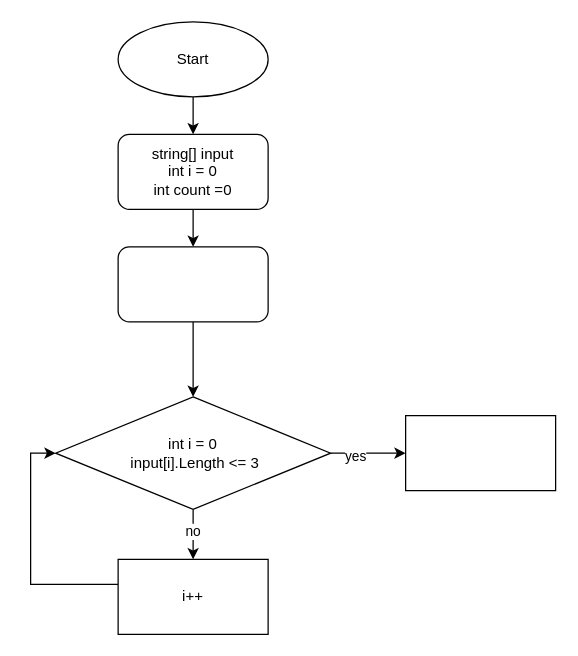
Some shapes in this 578 by 656 pixel diagram are drawn without their labels. Each missing label, with the centre of its shape:
result[i] = input[i]: (480,452)
string[] result = new string[input.Length]: (192,284)
